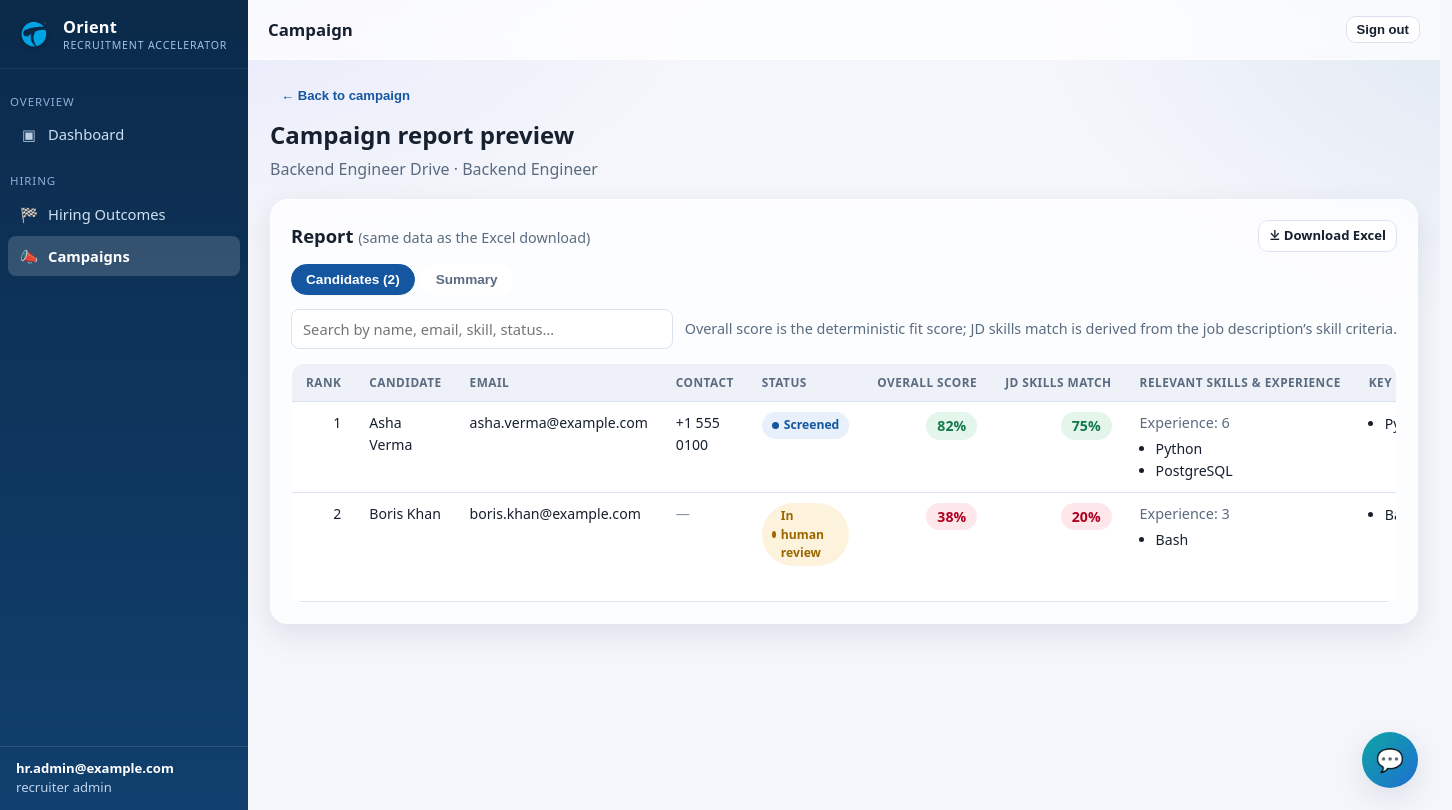
Test case: in-app report preview › filters candidates by the search box
The image size is (1452, 810).
Expected: the text "Asha Verma" is shown, top-left (355, 402), bottom-right (456, 493)
Type "boris" into the search field with placeholder "Search by name, email, skill, status…" at [482, 329], box top-left (291, 309), bottom-right (673, 349)
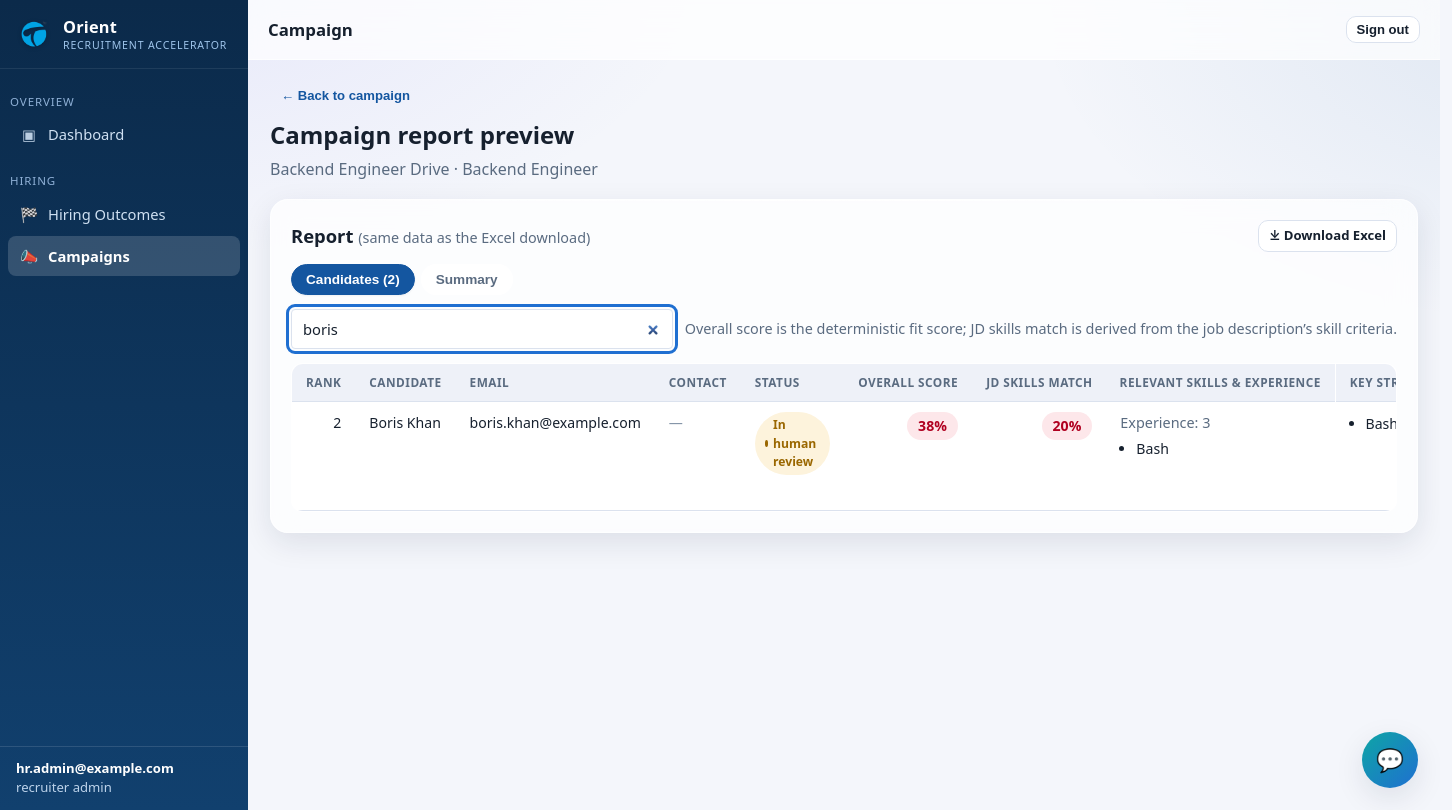
Expected: the text "Boris Khan" is shown, top-left (355, 402), bottom-right (456, 511)
Result: the text "Asha Verma" is gone
